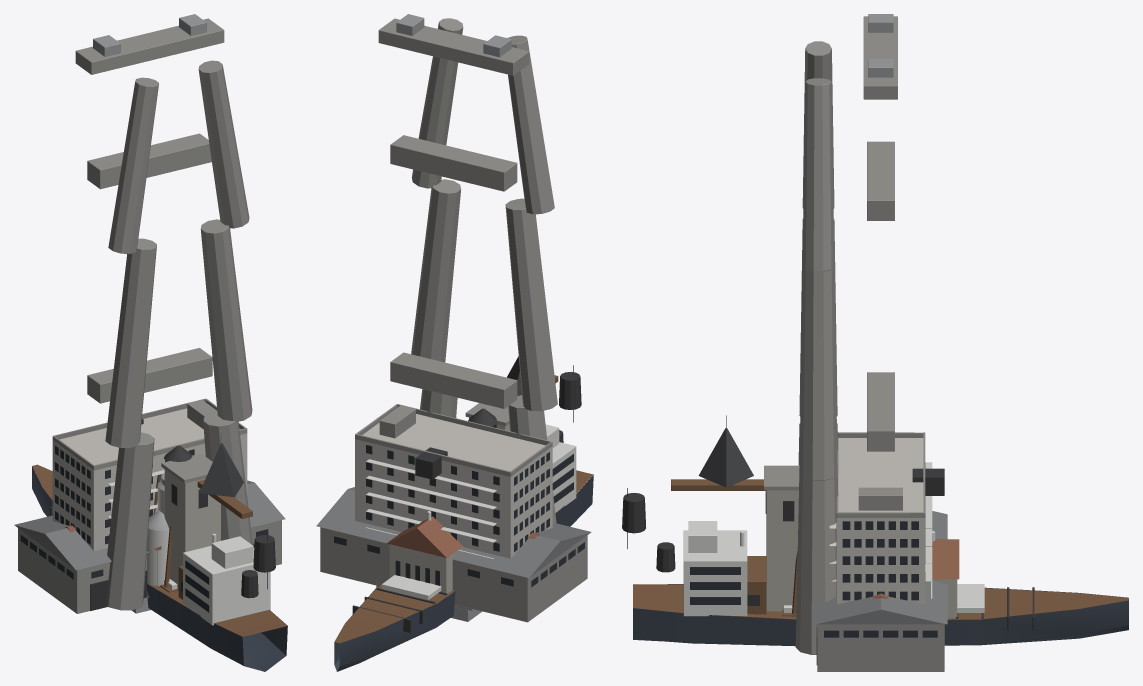
Rendered from town.glb.
3 views of the same model, side by side, from view 1: azimuth 30°, elevation 25°; view 2: azimuth 150°, elevation 25°; view 3: azimuth 270°, elevation 25° (orthographic). The views are drawn at different scales.
Visible parts, largest first — view 1: BridgeTower, CargoShip, Block_B, Warehouse, Church, Silo, Crane, Wreck; view 2: BridgeTower, Block_B, Warehouse, CargoShip, Church, Crane, Wreck; view 3: BridgeTower, CargoShip, Block_B, Warehouse, Church, Wreck, Crane.
Part boxes in pixels (x1=…): BridgeTower: x1=75, y1=14, x2=252, y2=610; CargoShip: x1=32, y1=464, x2=287, y2=671; Block_B: x1=52, y1=398, x2=247, y2=550; Warehouse: x1=14, y1=480, x2=285, y2=613; Church: x1=154, y1=431, x2=243, y2=590; Silo: x1=147, y1=510, x2=169, y2=597; Crane: x1=141, y1=418, x2=267, y2=589; Wreck: x1=50, y1=506, x2=258, y2=629; BridgeTower: x1=378, y1=14, x2=557, y2=523; Block_B: x1=355, y1=404, x2=552, y2=558; Warehouse: x1=316, y1=487, x2=591, y2=622; CargoShip: x1=334, y1=372, x2=593, y2=671; Church: x1=387, y1=356, x2=521, y2=595; Crane: x1=415, y1=365, x2=573, y2=479; Wreck: x1=352, y1=430, x2=563, y2=632; BridgeTower: x1=795, y1=14, x2=897, y2=654; CargoShip: x1=622, y1=493, x2=1128, y2=646; Block_B: x1=829, y1=432, x2=932, y2=604; Warehouse: x1=814, y1=511, x2=947, y2=671; Church: x1=698, y1=415, x2=959, y2=619; Wreck: x1=656, y1=542, x2=1034, y2=630; Crane: x1=627, y1=468, x2=944, y2=614.
Bounding box in the file's own units: 41 × 105 × 79.7.
